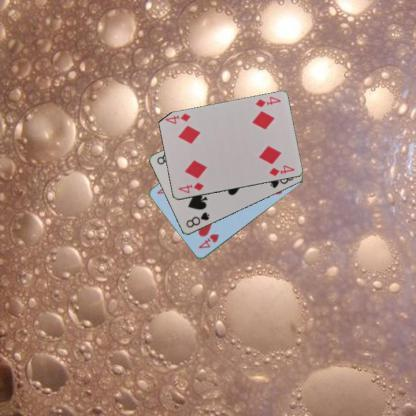4d: (252, 94, 282, 109), (176, 180, 204, 194)
4h: (195, 231, 220, 250)
8s: (183, 210, 210, 229)
